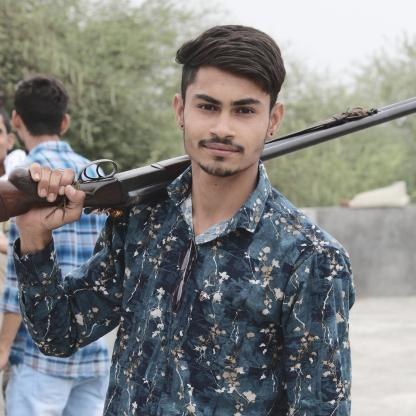rifle: (0, 96, 416, 222)
